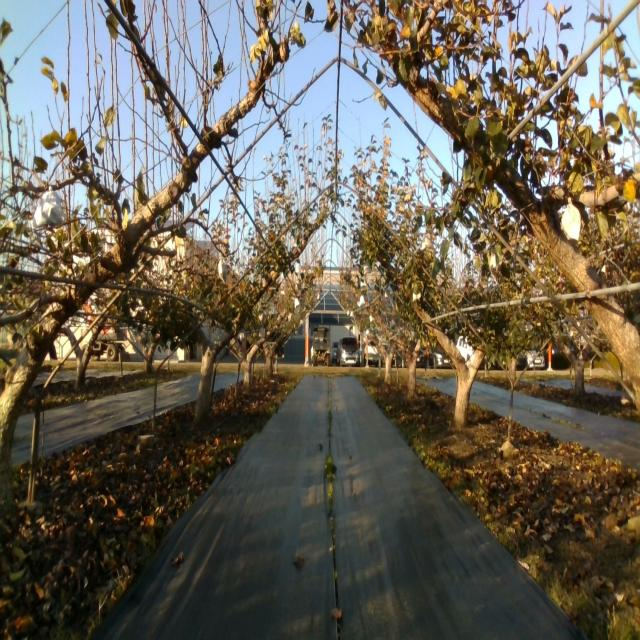pearbags: (31, 187, 67, 229), (560, 196, 582, 241), (489, 251, 502, 284), (218, 259, 228, 284), (422, 232, 434, 252)
